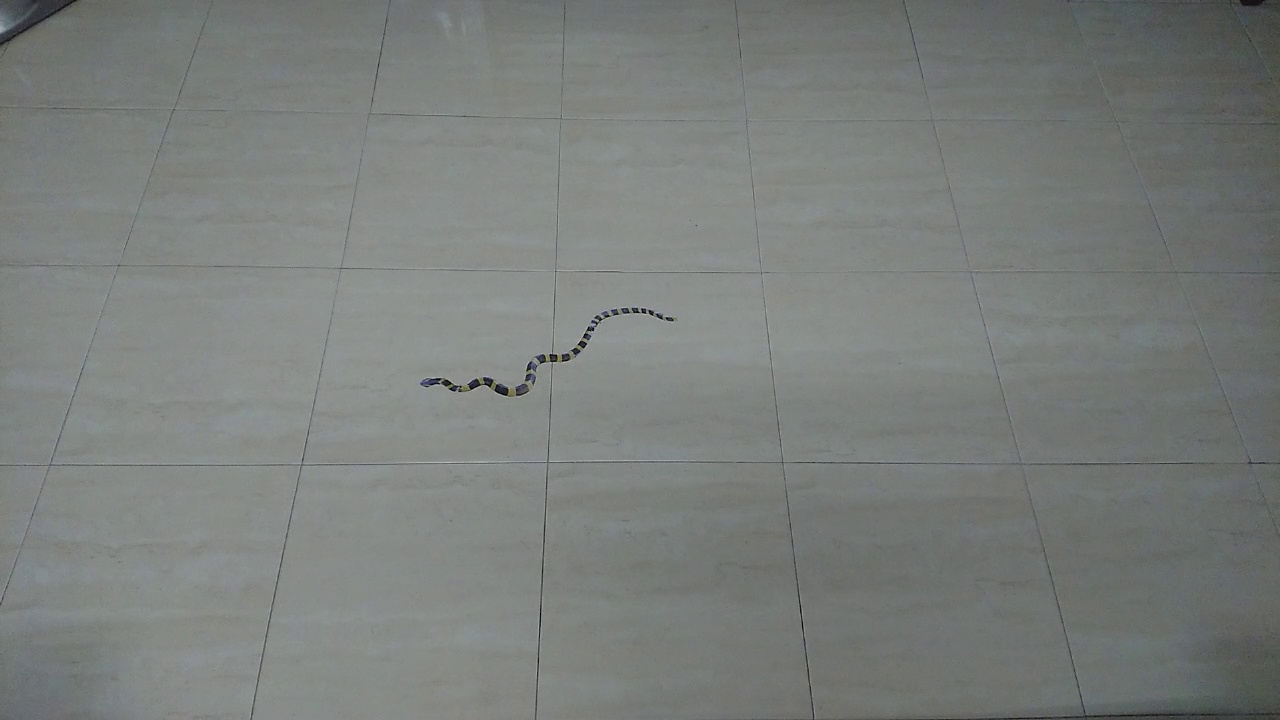snake: (405, 294, 687, 418)
